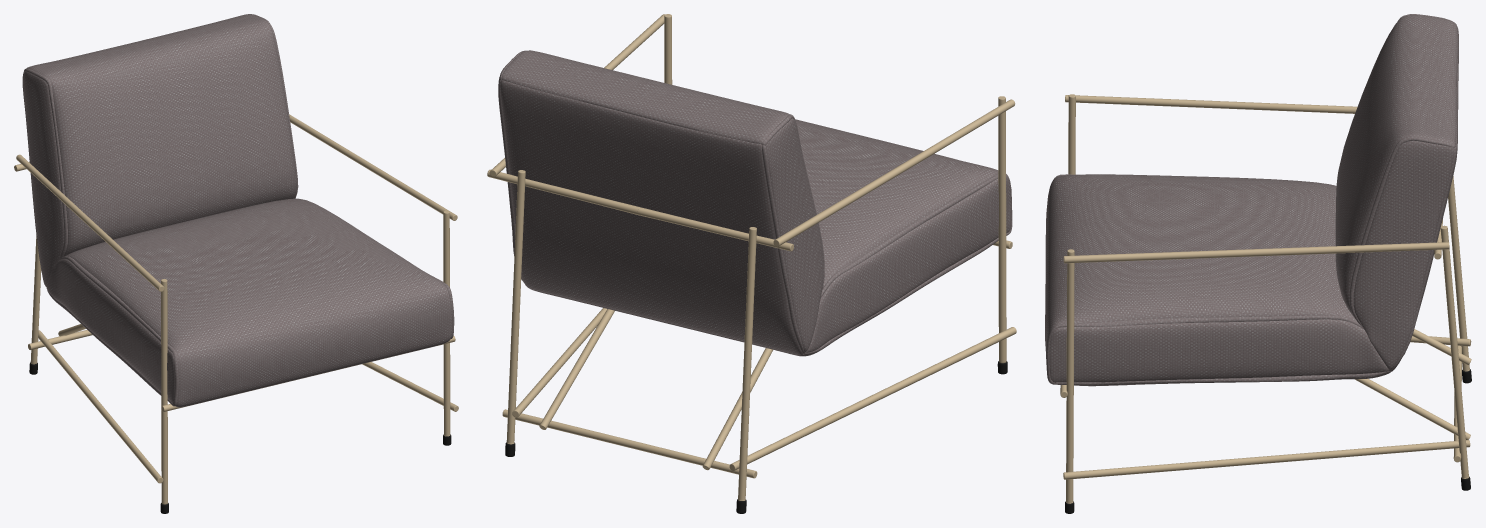
Rendered from kyo.gltf.
3 views of the same model, side by side, from view 1: azimuth 30°, elevation 25°; view 2: azimuth 150°, elevation 25°; view 3: azimuth 270°, elevation 25° (orthographic). The views are drawn at different scales.
Parts seen in each view (by area): view 1: kyo_low.001; view 2: kyo_low.001; view 3: kyo_low.001.
Part boxes in pixels (box(x1,y1,x2,y2)): kyo_low.001: box(14, 14, 458, 513); kyo_low.001: box(487, 14, 1016, 513); kyo_low.001: box(1045, 14, 1471, 513).
Size of the model in its own units: 0.8101 by 0.8233 by 0.8823.
1 material, 1 textured.
